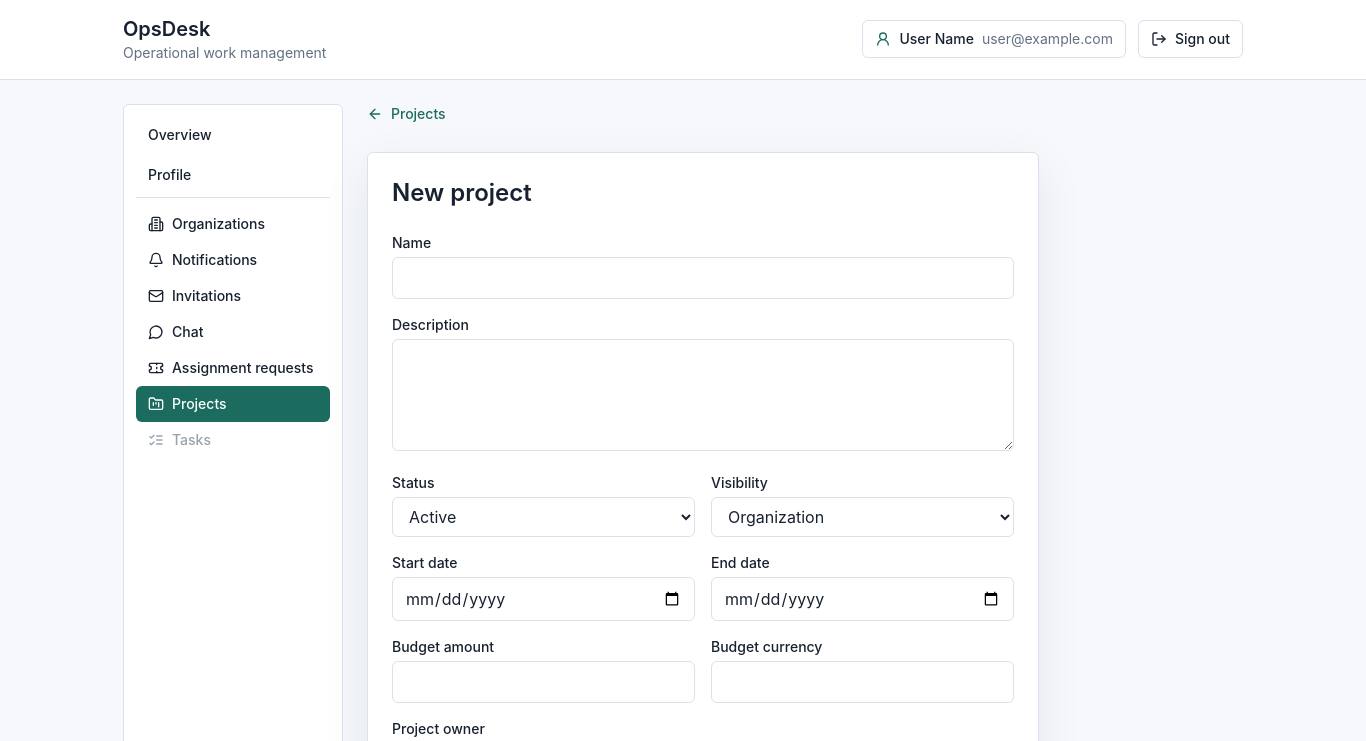
Test: SPEC-106 frontend projects and tasks UI › creates a project and navigates to its detail route
Type "Customer Onboarding" into the field labelled "Name".
click(703, 278); type("Customer Onboarding")  # box top-left (392, 257), bottom-right (1014, 299)
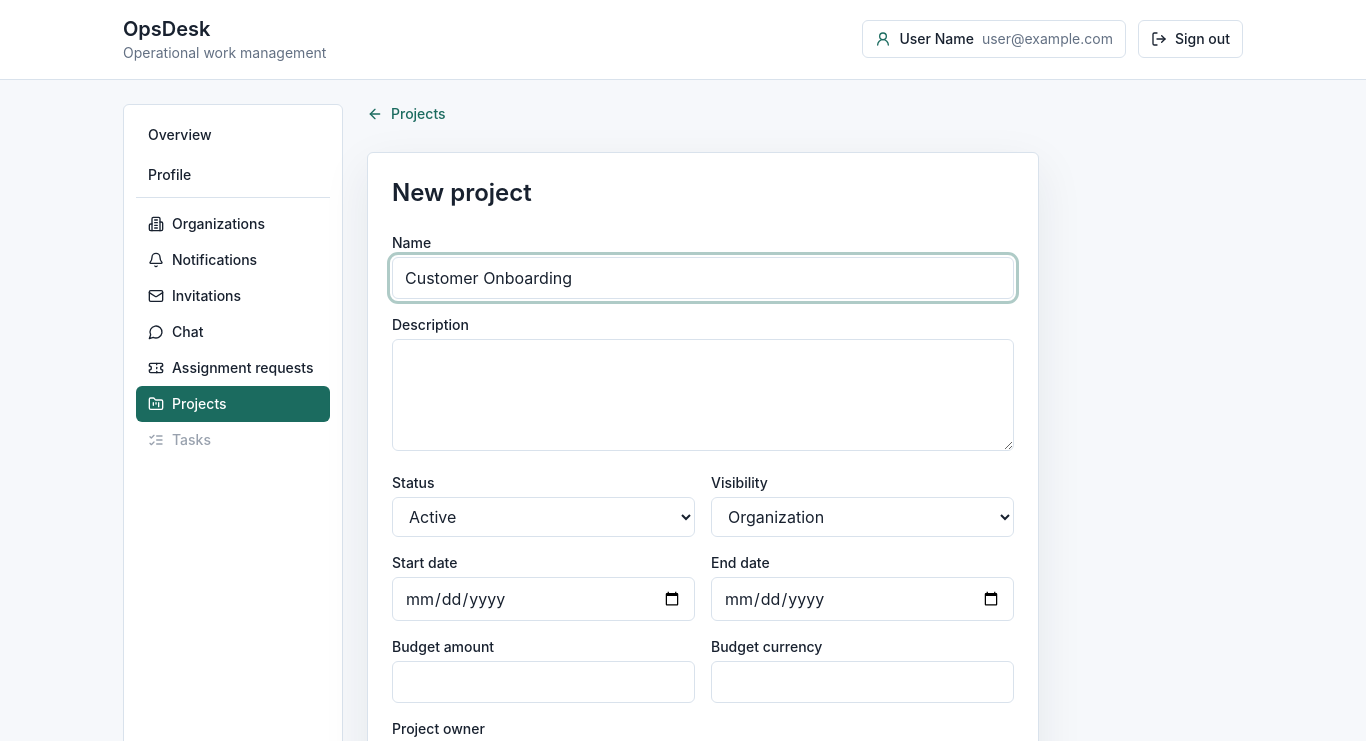
Type "Implementation work" into the text box labelled "Description".
click(703, 395); type("Implementation work")  # box top-left (392, 339), bottom-right (1014, 451)
(page scrolled)
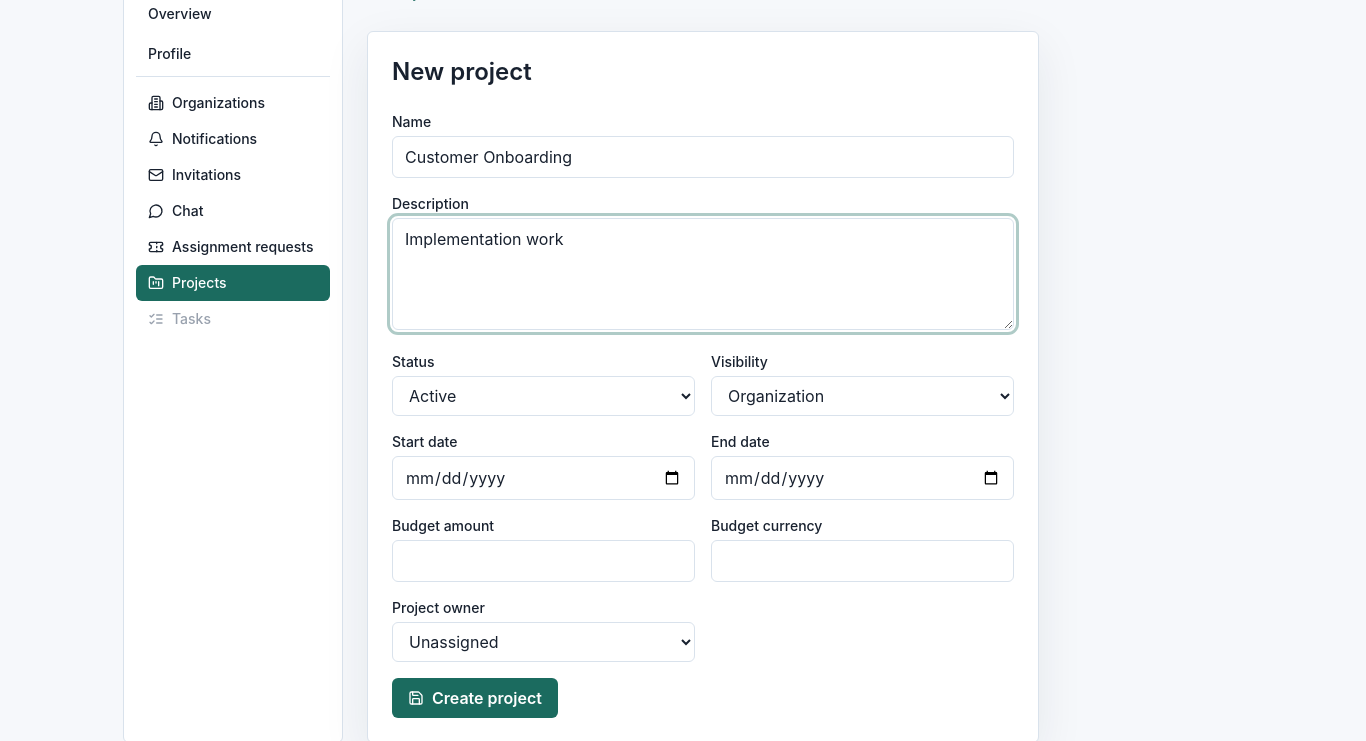
Click the button "Create project".
click(475, 698)  # box top-left (392, 678), bottom-right (558, 718)
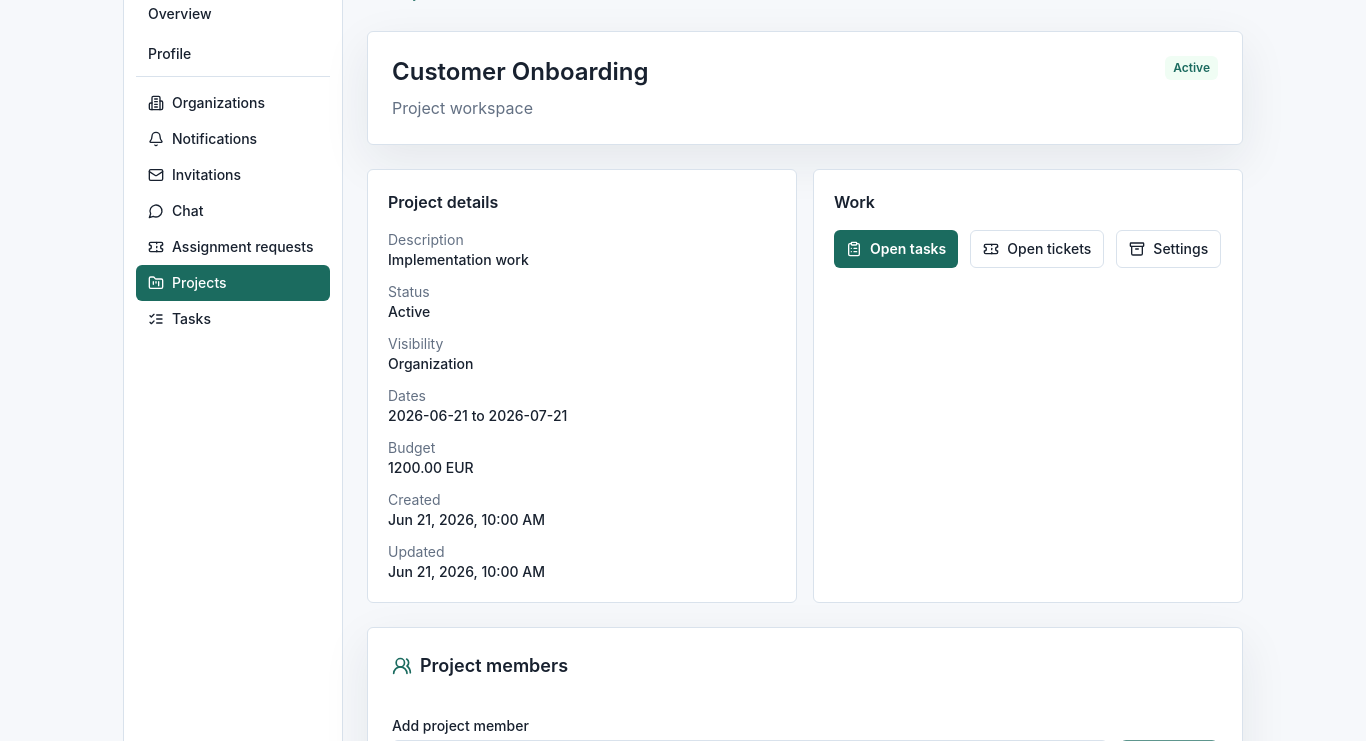
Expected: the heading "Customer Onboarding" is shown, top-left (392, 56), bottom-right (648, 88)
